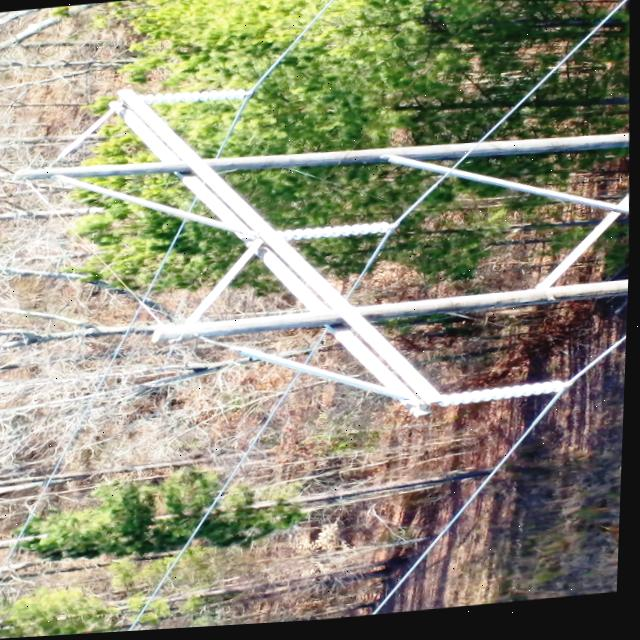poles: (18, 90, 631, 420)
wires: (376, 394, 569, 619), (481, 2, 629, 146), (218, 0, 339, 157), (22, 371, 110, 537), (351, 177, 449, 301), (110, 220, 189, 371), (131, 546, 191, 633), (571, 342, 629, 392), (219, 450, 255, 503), (0, 541, 23, 586), (90, 111, 123, 133), (452, 157, 469, 173), (272, 404, 285, 423), (310, 346, 320, 364), (190, 196, 199, 214)
